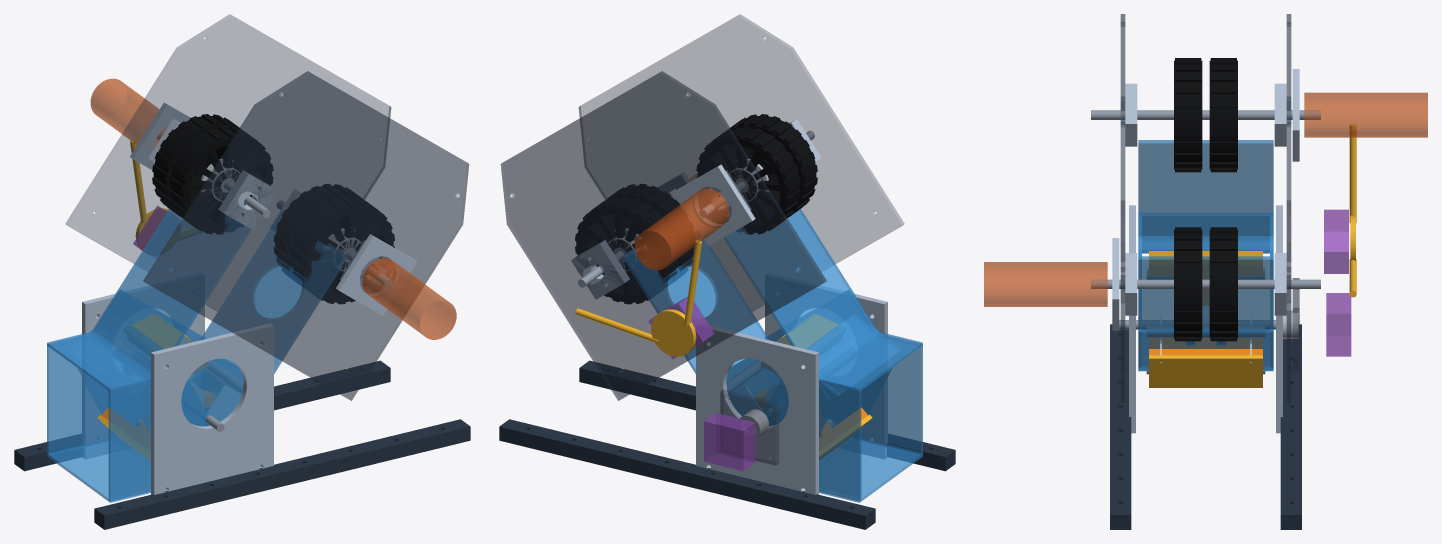
Rendered from paddle_launcher_constrained_pollen.glb.
The picture shows the model from 3 angles, left to right: view 1: azimuth 30°, elevation 25°; view 2: azimuth 150°, elevation 25°; view 3: azimuth 270°, elevation 25°; orthographic projection. The views are drawn at different scales.
Visible parts, largest first — view 1: shooter_side_plate_-1, shooter_side_plate_+1, paddle_support_cheek_-1, base_rail_-72, shooter_throat_+55, shooter_throat_-55, gecko_flywheel_upper_1, guide_wall_1_+1, guide_wall_1_-1, gecko_flywheel_lower_1, base_rail_+72, motor_envelope_lower (+22 smaller); view 2: shooter_side_plate_+1, shooter_side_plate_-1, paddle_support_cheek_+1, base_rail_+72, shooter_throat_+55, gecko_flywheel_upper_2, shooter_throat_-55, guide_wall_1_-1, guide_wall_1_+1, base_rail_-72, motor_envelope_upper, gecko_flywheel_lower_2 (+24 smaller); view 3: shooter_throat_+55, motor_envelope_upper, motor_envelope_lower, shooter_throat_-55, base_rail_-72, base_rail_+72, guide_roof_3, paddle_flex_tip_1, gecko_flywheel_upper_1, gecko_flywheel_upper_2, gecko_flywheel_lower_1, gecko_flywheel_lower_2 (+23 smaller).
Boxes of the visible parts, x1,y1,x2,y2 form: shooter_side_plate_-1: (143,71,469,400); shooter_side_plate_+1: (65,14,391,311); paddle_support_cheek_-1: (151,323,273,494); base_rail_-72: (94,419,470,529); shooter_throat_+55: (119,203,250,335); shooter_throat_-55: (202,210,347,373); gecko_flywheel_upper_1: (169,126,273,234); guide_wall_1_+1: (47,335,113,455); guide_wall_1_-1: (108,379,150,500); gecko_flywheel_lower_1: (290,196,394,303); base_rail_+72: (14,360,390,471); motor_envelope_lower: (362,258,456,339); shooter_side_plate_+1: (500,71,826,400); shooter_side_plate_-1: (578,14,904,311); paddle_support_cheek_+1: (696,326,818,494); base_rail_+72: (499,419,875,529); shooter_throat_+55: (724,203,850,335); gecko_flywheel_upper_2: (696,126,800,234); shooter_throat_-55: (622,240,767,373); guide_wall_1_-1: (856,335,922,455); guide_wall_1_+1: (819,379,861,500); base_rail_-72: (579,360,955,471); motor_envelope_upper: (634,188,729,270); gecko_flywheel_lower_2: (575,196,679,303); shooter_throat_+55: (1138,140,1273,215); motor_envelope_upper: (1304,92,1427,137); motor_envelope_lower: (984,262,1107,306); shooter_throat_-55: (1138,256,1273,332); base_rail_-72: (1110,324,1131,529); base_rail_+72: (1280,324,1301,529); guide_roof_3: (1138,213,1273,253); paddle_flex_tip_1: (1149,355,1262,387); gecko_flywheel_upper_1: (1174,58,1202,172); gecko_flywheel_upper_2: (1209,58,1237,172); gecko_flywheel_lower_1: (1174,227,1202,341); gecko_flywheel_lower_2: (1209,227,1237,341).
Size of the model in its own units: 384 by 400 by 374.
